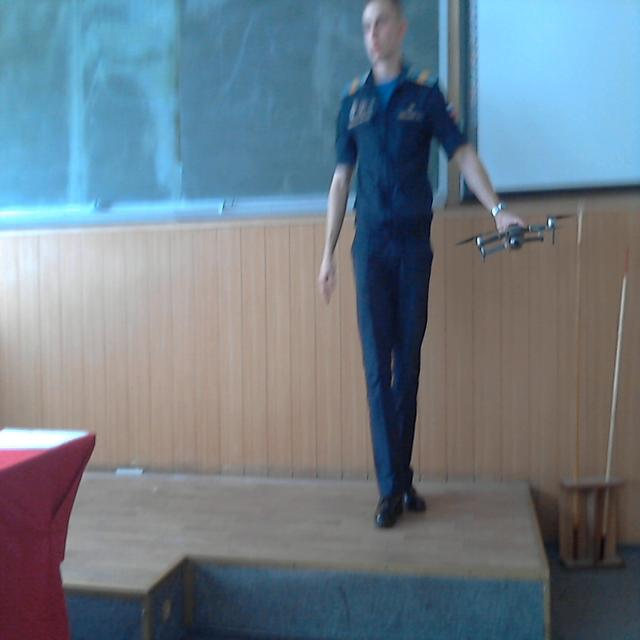drone: (452, 205, 574, 258)
